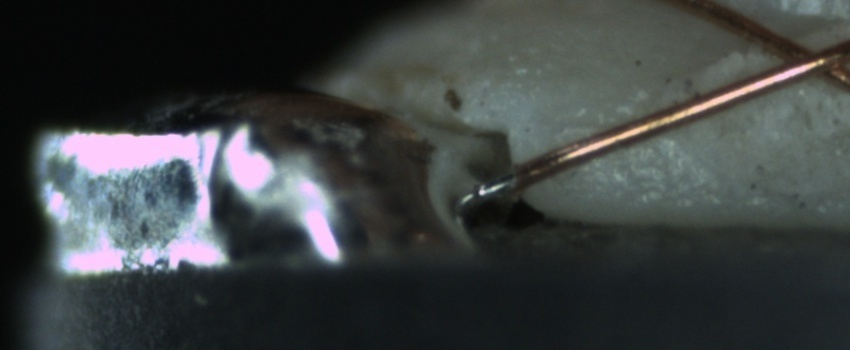CL: (749, 24, 849, 91)
DL: (544, 99, 664, 151)
TS: (468, 167, 519, 205)
